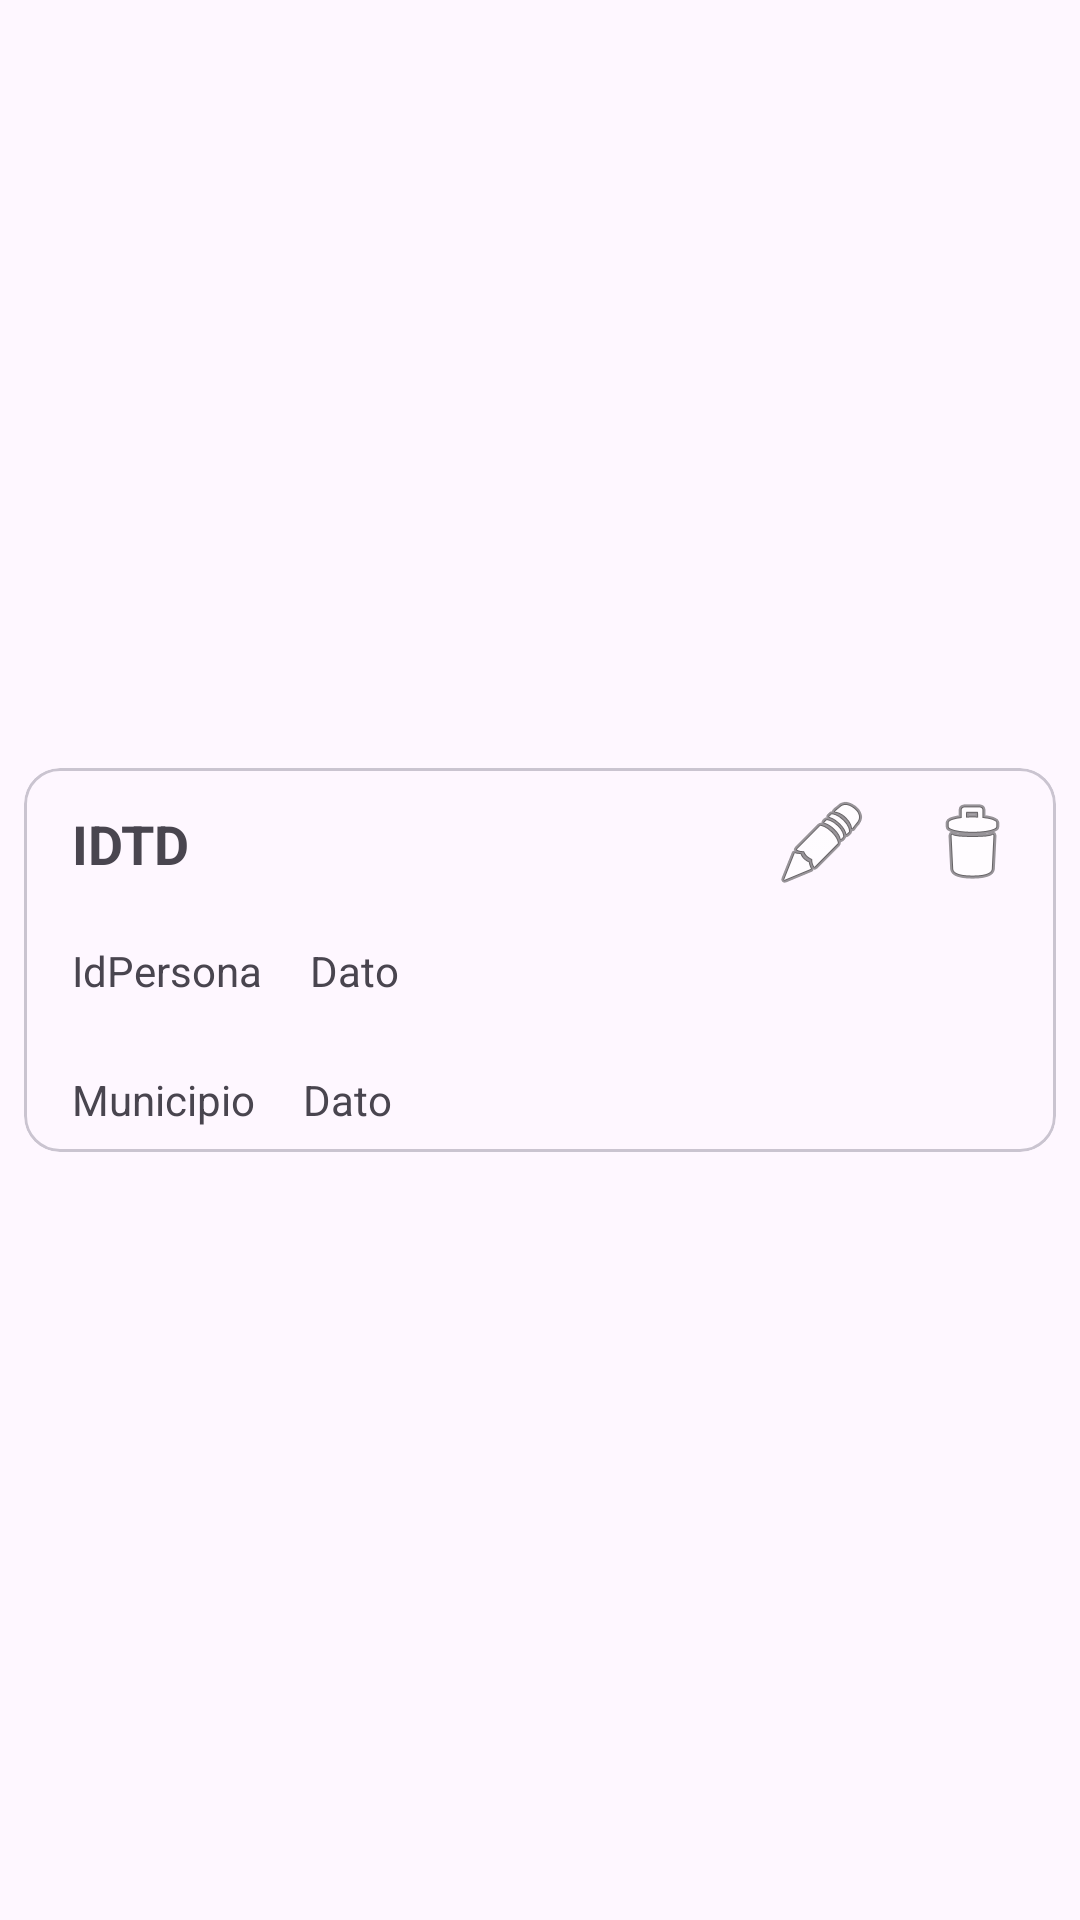

Screen size 1080*1920. Icon name, then its box in pixels as (x1, y1, x2, y2):
delete: (945, 804, 1000, 879)
edit: (781, 802, 862, 883)
